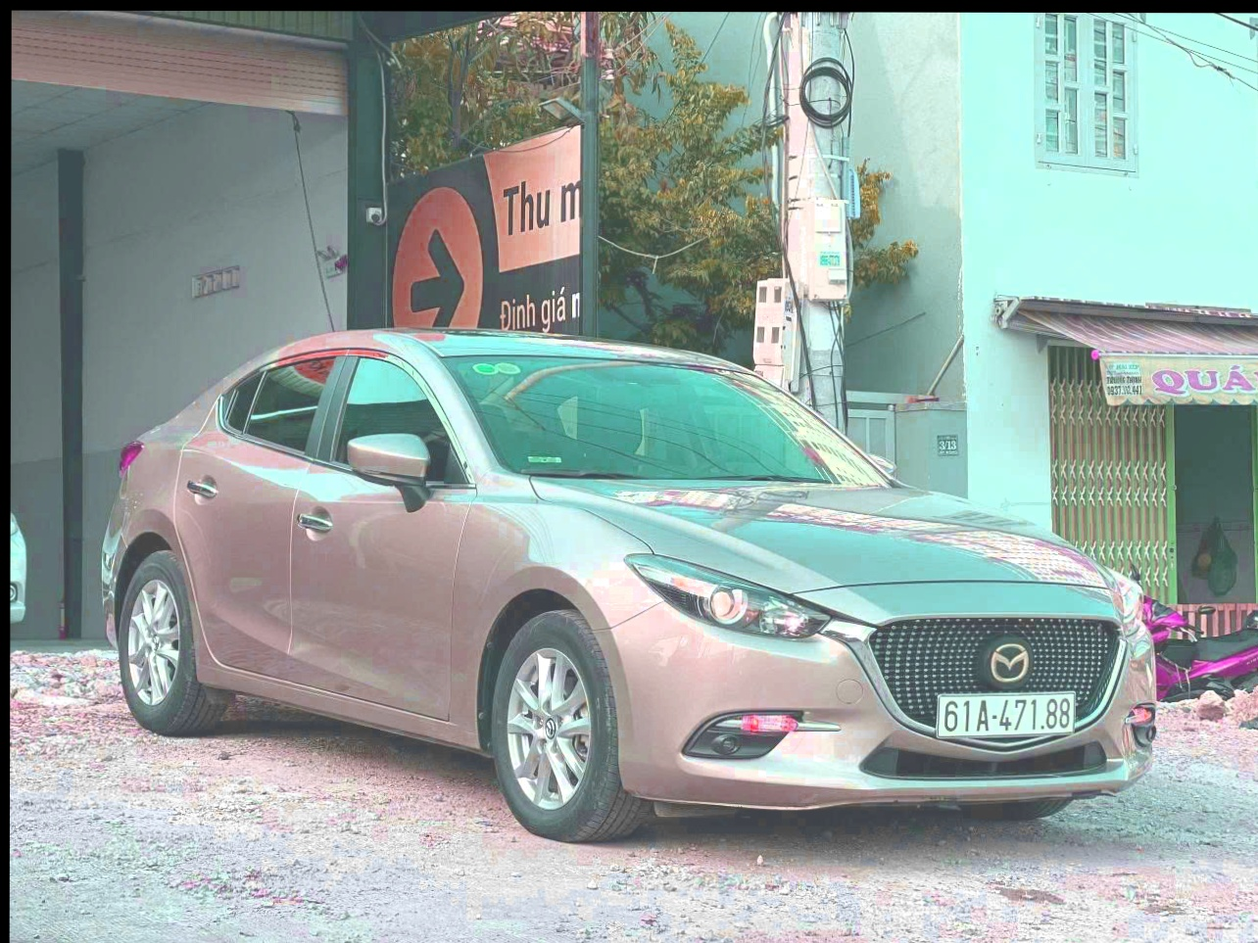Bien-so: (910, 709, 1048, 769)
